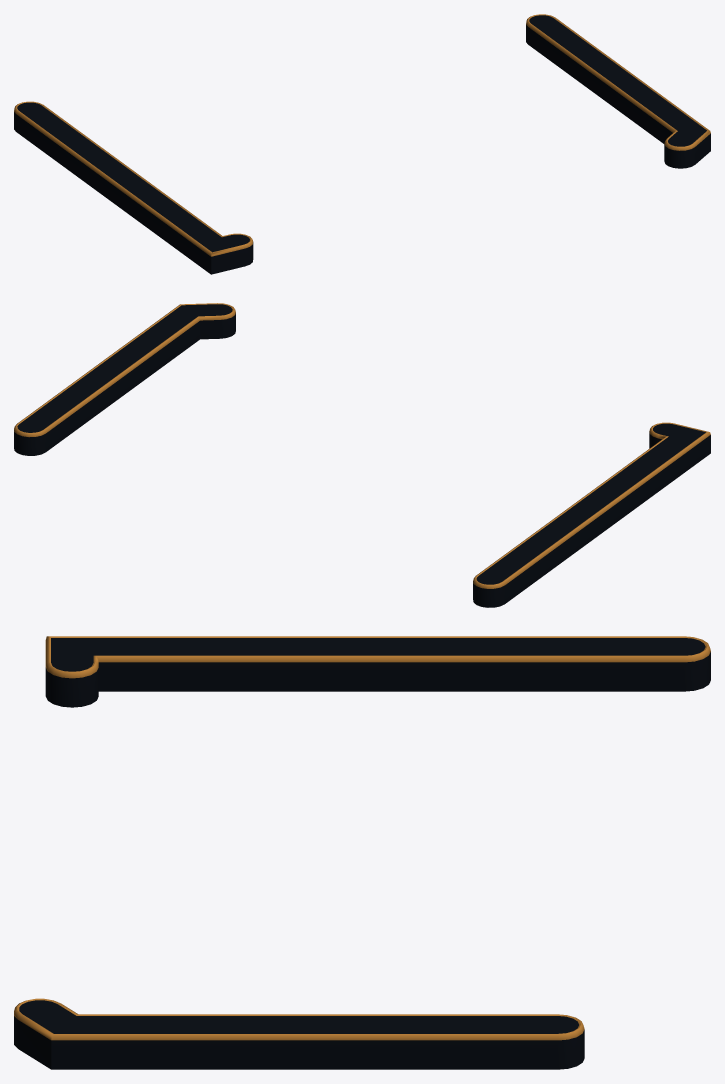
The model's file is reef-walls.dae.
3 views of the same model, one above another, from view 1: azimuth 30°, elevation 25°; view 2: azimuth 150°, elevation 25°; view 3: azimuth 270°, elevation 25° (orthographic). The views are drawn at different scales.
Visible parts, largest first — view 1: cabinet_shell, accent; view 2: cabinet_shell, accent; view 3: cabinet_shell, accent.
Boxes of the visible parts, left/top/right/bottom form: cabinet_shell: left=14, top=15, right=710, bottom=274; accent: left=14, top=14, right=710, bottom=256; cabinet_shell: left=14, top=304, right=710, bottom=607; accent: left=14, top=303, right=710, bottom=588; cabinet_shell: left=14, top=638, right=710, bottom=1069; accent: left=14, top=636, right=710, bottom=1040.
Bounding box in the file's own units: 0.75 × 0.03 × 0.5516.
